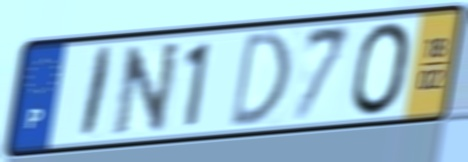1: (181, 38, 217, 130)
7: (293, 21, 354, 127)
D: (226, 27, 294, 132)
I: (76, 44, 117, 143)
N: (111, 38, 184, 139)
O: (350, 19, 415, 119)
